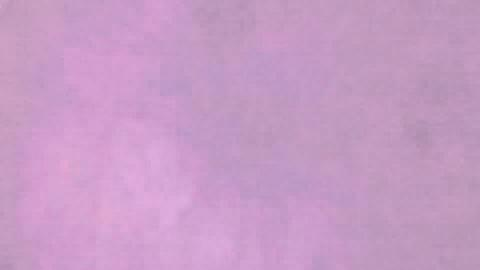tomato: (54, 121, 239, 268), (239, 123, 422, 268), (422, 121, 477, 268)
